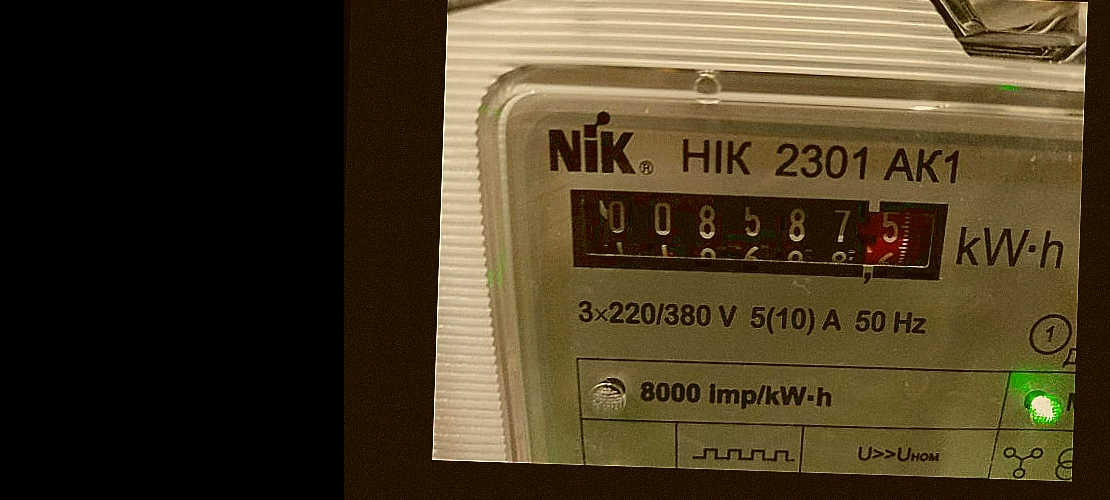0: (649, 197, 675, 237)
1: (603, 195, 629, 237)
5: (878, 205, 904, 246), (740, 201, 765, 239)
7: (829, 205, 854, 246)
8: (693, 200, 720, 242), (785, 203, 808, 245)
screen: (547, 168, 968, 301)
